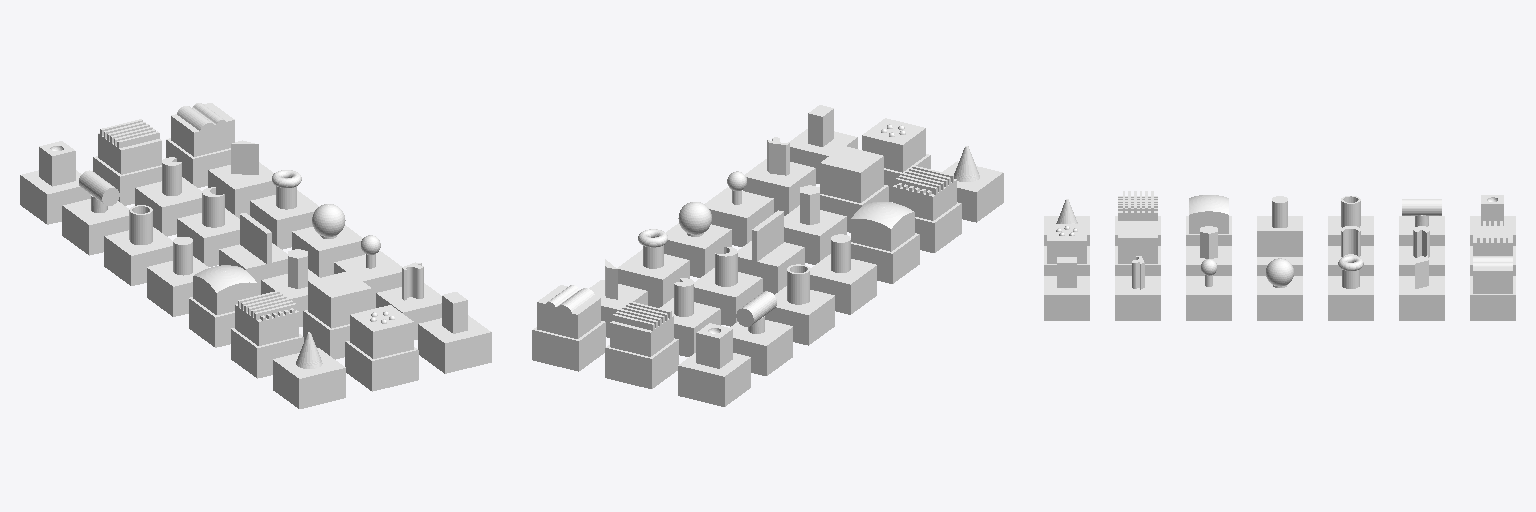
The robot description file, URDF, robot "all_stim":
<?xml version="1.0" ?>
<robot name="all_stim">

  <link name="world"/>

<!-- Row 1 -->

	<link name="cone">
		<visual>
			<origin rpy="0 0 0" xyz="-0.025 -0.075 0.0" />
			<geometry>
				<mesh filename="cone/cone.obj" scale=".001 .001 .001" />
			</geometry>
			<material name="texture">
				<color rgba="1.0 1.0 1.0 1.0" />
			</material>
		</visual>
		<collision>
			<geometry>
				<mesh filename="cone/cone_vhacd.obj" scale=".001 .001 .001" />
			</geometry>
		<origin rpy="0 0 0" xyz="-0.025 -0.075 0.0" /></collision>
		<inertial>
			<mass value="1.0" />
			<inertia ixx="1.0" ixy="0.0" ixz="0.0" iyy="1.0" iyz="0.0" izz="1.0" />
		</inertial>
	</link>

  <joint name="cone_joint" type="fixed">
    <origin rpy="0 0 0" xyz="0 0 0"/>
    <parent link="world"/>
    <child link="cone"/>
  </joint>


  <link name="cross_lines">
		<visual>
			<origin rpy="0 0 0" xyz="-0.025 -0.05 0.0" />
			<geometry>
				<mesh filename="cross_lines/cross_lines.obj" scale=".001 .001 .001" />
			</geometry>
			<material name="texture">
				<color rgba="1.0 1.0 1.0 1.0" />
			</material>
		</visual>
		<collision>
			<geometry>
				<mesh filename="cross_lines/cross_lines_vhacd.obj" scale=".001 .001 .001" />
			</geometry>
		<origin rpy="0 0 0" xyz="-0.025 -0.05 0.0" />
    </collision>
		<inertial>
			<mass value="1.0" />
			<inertia ixx="1.0" ixy="0.0" ixz="0.0" iyy="1.0" iyz="0.0" izz="1.0" />
		</inertial>
	</link>

  <joint name="cross_lines_joint" type="fixed">
    <origin rpy="0 0 0" xyz="0 0 0"/>
    <parent link="world"/>
    <child link="cross_lines"/>
  </joint>


  <link name="curved_surface">
		<visual>
			<origin rpy="0 0 0" xyz="-0.025 -0.025 0.0" />
			<geometry>
				<mesh filename="curved_surface/curved_surface.obj" scale=".001 .001 .001" />
			</geometry>
			<material name="texture">
				<color rgba="1.0 1.0 1.0 1.0" />
			</material>
		</visual>
		<collision>
			<geometry>
				<mesh filename="curved_surface/curved_surface_vhacd.obj" scale=".001 .001 .001" />
			</geometry>
		<origin rpy="0 0 0" xyz="-0.025 -0.025 0.0" />
    </collision>
		<inertial>
			<mass value="1.0" />
			<inertia ixx="1.0" ixy="0.0" ixz="0.0" iyy="1.0" iyz="0.0" izz="1.0" />
		</inertial>
	</link>

  <joint name="curved_surface_joint" type="fixed">
    <origin rpy="0 0 0" xyz="0 0 0"/>
    <parent link="world"/>
    <child link="curved_surface"/>
  </joint>

  <link name="cylinder">
		<visual>
			<origin rpy="0 0 0" xyz="-0.025 0.0 0.0" />
			<geometry>
				<mesh filename="cylinder/cylinder.obj" scale=".001 .001 .001" />
			</geometry>
			<material name="texture">
				<color rgba="1.0 1.0 1.0 1.0" />
			</material>
		</visual>
		<collision>
			<geometry>
				<mesh filename="cylinder/cylinder_vhacd.obj" scale=".001 .001 .001" />
			</geometry>
		<origin rpy="0 0 0" xyz="-0.025 0.0 0.0" />
    </collision>
		<inertial>
			<mass value="1.0" />
			<inertia ixx="1.0" ixy="0.0" ixz="0.0" iyy="1.0" iyz="0.0" izz="1.0" />
		</inertial>
	</link>

  <joint name="cylinder_joint" type="fixed">
    <origin rpy="0 0 0" xyz="0 0 0"/>
    <parent link="world"/>
    <child link="cylinder"/>
  </joint>

  <link name="cylinder_shell">
		<visual>
			<origin rpy="0 0 0" xyz="-0.025 0.025 0.0" />
			<geometry>
				<mesh filename="cylinder_shell/cylinder_shell.obj" scale=".001 .001 .001" />
			</geometry>
			<material name="texture">
				<color rgba="1.0 1.0 1.0 1.0" />
			</material>
		</visual>
		<collision>
			<geometry>
				<mesh filename="cylinder_shell/cylinder_shell_vhacd.obj" scale=".001 .001 .001" />
			</geometry>
		<origin rpy="0 0 0" xyz="-0.025 0.025 0.0" />
    </collision>
		<inertial>
			<mass value="1.0" />
			<inertia ixx="1.0" ixy="0.0" ixz="0.0" iyy="1.0" iyz="0.0" izz="1.0" />
		</inertial>
	</link>

  <joint name="cylinder_shell_joint" type="fixed">
    <origin rpy="0 0 0" xyz="0 0 0"/>
    <parent link="world"/>
    <child link="cylinder_shell"/>
  </joint>

  <link name="cylinder_side">
		<visual>
			<origin rpy="0 0 0" xyz="-0.025 0.05 0.0" />
			<geometry>
				<mesh filename="cylinder_side/cylinder_side.obj" scale=".001 .001 .001" />
			</geometry>
			<material name="texture">
				<color rgba="1.0 1.0 1.0 1.0" />
			</material>
		</visual>
		<collision>
			<geometry>
				<mesh filename="cylinder_side/cylinder_side_vhacd.obj" scale=".001 .001 .001" />
			</geometry>
		<origin rpy="0 0 0" xyz="-0.025 0.05 0.0" />
    </collision>
		<inertial>
			<mass value="1.0" />
			<inertia ixx="1.0" ixy="0.0" ixz="0.0" iyy="1.0" iyz="0.0" izz="1.0" />
		</inertial>
	</link>

  <joint name="cylinder_side_joint" type="fixed">
    <origin rpy="0 0 0" xyz="0 0 0"/>
    <parent link="world"/>
    <child link="cylinder_side"/>
  </joint>

  <link name="dot_in">
		<visual>
			<origin rpy="0 0 0" xyz="-0.025 0.075 0.0" />
			<geometry>
				<mesh filename="dot_in/dot_in.obj" scale=".001 .001 .001" />
			</geometry>
			<material name="texture">
				<color rgba="1.0 1.0 1.0 1.0" />
			</material>
		</visual>
		<collision>
			<geometry>
				<mesh filename="dot_in/dot_in_vhacd.obj" scale=".001 .001 .001" />
			</geometry>
		<origin rpy="0 0 0" xyz="-0.025 0.075 0.0" />
    </collision>
		<inertial>
			<mass value="1.0" />
			<inertia ixx="1.0" ixy="0.0" ixz="0.0" iyy="1.0" iyz="0.0" izz="1.0" />
		</inertial>
	</link>

  <joint name="dot_in_joint" type="fixed">
    <origin rpy="0 0 0" xyz="0 0 0"/>
    <parent link="world"/>
    <child link="dot_in"/>
  </joint>

<!-- ROW 2 -->

  <link name="dots">
		<visual>
			<origin rpy="0 0 0" xyz="0.0 -0.075 0.0" />
			<geometry>
				<mesh filename="dots/dots.obj" scale=".001 .001 .001" />
			</geometry>
			<material name="texture">
				<color rgba="1.0 1.0 1.0 1.0" />
			</material>
		</visual>
		<collision>
			<geometry>
				<mesh filename="dots/dots_vhacd.obj" scale=".001 .001 .001" />
			</geometry>
		<origin rpy="0 0 0" xyz="0.0 -0.075 0.0" />
    </collision>
		<inertial>
			<mass value="1.0" />
			<inertia ixx="1.0" ixy="0.0" ixz="0.0" iyy="1.0" iyz="0.0" izz="1.0" />
		</inertial>
	</link>

  <joint name="dots_joint" type="fixed">
    <origin rpy="0 0 0" xyz="0 0 0"/>
    <parent link="world"/>
    <child link="dots"/>
  </joint>

  <link name="flat_slab">
		<visual>
			<origin rpy="0 0 0" xyz="0.0 -0.05 0.0" />
			<geometry>
				<mesh filename="flat_slab/flat_slab.obj" scale=".001 .001 .001" />
			</geometry>
			<material name="texture">
				<color rgba="1.0 1.0 1.0 1.0" />
			</material>
		</visual>
		<collision>
			<geometry>
				<mesh filename="flat_slab/flat_slab_vhacd.obj" scale=".001 .001 .001" />
			</geometry>
		<origin rpy="0 0 0" xyz="0.0 -0.05 0.0" />
    </collision>
		<inertial>
			<mass value="1.0" />
			<inertia ixx="1.0" ixy="0.0" ixz="0.0" iyy="1.0" iyz="0.0" izz="1.0" />
		</inertial>
	</link>

  <joint name="flat_slab_joint" type="fixed">
    <origin rpy="0 0 0" xyz="0 0 0"/>
    <parent link="world"/>
    <child link="flat_slab"/>
  </joint>

  <link name="hexagon">
		<visual>
			<origin rpy="0 0 0" xyz="0.0 -0.025 0.0" />
			<geometry>
				<mesh filename="hexagon/hexagon.obj" scale=".001 .001 .001" />
			</geometry>
			<material name="texture">
				<color rgba="1.0 1.0 1.0 1.0" />
			</material>
		</visual>
		<collision>
			<geometry>
				<mesh filename="hexagon/hexagon_vhacd.obj" scale=".001 .001 .001" />
			</geometry>
		<origin rpy="0 0 0" xyz="0.0 -0.025 0.0" />
    </collision>
		<inertial>
			<mass value="1.0" />
			<inertia ixx="1.0" ixy="0.0" ixz="0.0" iyy="1.0" iyz="0.0" izz="1.0" />
		</inertial>
	</link>

  <joint name="hexagon_joint" type="fixed">
    <origin rpy="0 0 0" xyz="0 0 0"/>
    <parent link="world"/>
    <child link="hexagon"/>
  </joint>

  <link name="line">
		<visual>
			<origin rpy="0 0 0" xyz="0.0 0.0 0.0" />
			<geometry>
				<mesh filename="line/line.obj" scale=".001 .001 .001" />
			</geometry>
			<material name="texture">
				<color rgba="1.0 1.0 1.0 1.0" />
			</material>
		</visual>
		<collision>
			<geometry>
				<mesh filename="line/line_vhacd.obj" scale=".001 .001 .001" />
			</geometry>
		<origin rpy="0 0 0" xyz="0.0 0.0 0.0" />
    </collision>
		<inertial>
			<mass value="1.0" />
			<inertia ixx="1.0" ixy="0.0" ixz="0.0" iyy="1.0" iyz="0.0" izz="1.0" />
		</inertial>
	</link>

  <joint name="line_joint" type="fixed">
    <origin rpy="0 0 0" xyz="0 0 0"/>
    <parent link="world"/>
    <child link="line"/>
  </joint>

  <link name="moon">
		<visual>
			<origin rpy="0 0 0" xyz="0.0 0.025 0.0" />
			<geometry>
				<mesh filename="moon/moon.obj" scale=".001 .001 .001" />
			</geometry>
			<material name="texture">
				<color rgba="1.0 1.0 1.0 1.0" />
			</material>
		</visual>
		<collision>
			<geometry>
				<mesh filename="moon/moon_vhacd.obj" scale=".001 .001 .001" />
			</geometry>
		<origin rpy="0 0 0" xyz="0.0 0.025 0.0" />
    </collision>
		<inertial>
			<mass value="1.0" />
			<inertia ixx="1.0" ixy="0.0" ixz="0.0" iyy="1.0" iyz="0.0" izz="1.0" />
		</inertial>
	</link>

  <joint name="moon_joint" type="fixed">
    <origin rpy="0 0 0" xyz="0 0 0"/>
    <parent link="world"/>
    <child link="moon"/>
  </joint>

  <link name="pacman">
		<visual>
			<origin rpy="0 0 0" xyz="0.0 0.05 0.0" />
			<geometry>
				<mesh filename="pacman/pacman.obj" scale=".001 .001 .001" />
			</geometry>
			<material name="texture">
				<color rgba="1.0 1.0 1.0 1.0" />
			</material>
		</visual>
		<collision>
			<geometry>
				<mesh filename="pacman/pacman_vhacd.obj" scale=".001 .001 .001" />
			</geometry>
		<origin rpy="0 0 0" xyz="0.0 0.05 0.0" />
    </collision>
		<inertial>
			<mass value="1.0" />
			<inertia ixx="1.0" ixy="0.0" ixz="0.0" iyy="1.0" iyz="0.0" izz="1.0" />
		</inertial>
	</link>

  <joint name="pacman_joint" type="fixed">
    <origin rpy="0 0 0" xyz="0 0 0"/>
    <parent link="world"/>
    <child link="pacman"/>
  </joint>

  <link name="parallel_lines">
		<visual>
			<origin rpy="0 0 0" xyz="0.0 0.075 0.0" />
			<geometry>
				<mesh filename="parallel_lines/parallel_lines.obj" scale=".001 .001 .001" />
			</geometry>
			<material name="texture">
				<color rgba="1.0 1.0 1.0 1.0" />
			</material>
		</visual>
		<collision>
			<geometry>
				<mesh filename="parallel_lines/parallel_lines_vhacd.obj" scale=".001 .001 .001" />
			</geometry>
		<origin rpy="0 0 0" xyz="0.0 0.075 0.0" />
    </collision>
		<inertial>
			<mass value="1.0" />
			<inertia ixx="1.0" ixy="0.0" ixz="0.0" iyy="1.0" iyz="0.0" izz="1.0" />
		</inertial>
	</link>

  <joint name="parallel_lines_joint" type="fixed">
    <origin rpy="0 0 0" xyz="0 0 0"/>
    <parent link="world"/>
    <child link="parallel_lines"/>
  </joint>

<!-- ROW 3 -->

    <link name="prism">
  		<visual>
  			<origin rpy="0 0 0" xyz="0.025 -0.075 0.0" />
  			<geometry>
  				<mesh filename="prism/prism.obj" scale=".001 .001 .001" />
  			</geometry>
  			<material name="texture">
  				<color rgba="1.0 1.0 1.0 1.0" />
  			</material>
  		</visual>
  		<collision>
  			<geometry>
  				<mesh filename="prism/prism_vhacd.obj" scale=".001 .001 .001" />
  			</geometry>
  		<origin rpy="0 0 0" xyz="0.025 -0.075 0.0" />
      </collision>
  		<inertial>
  			<mass value="1.0" />
  			<inertia ixx="1.0" ixy="0.0" ixz="0.0" iyy="1.0" iyz="0.0" izz="1.0" />
  		</inertial>
  	</link>

    <joint name="prism_joint" type="fixed">
      <origin rpy="0 0 0" xyz="0 0 0"/>
      <parent link="world"/>
      <child link="prism"/>
    </joint>

    <link name="random">
  		<visual>
  			<origin rpy="0 0 0" xyz="0.025 -0.05 0.0" />
  			<geometry>
  				<mesh filename="random/random.obj" scale=".001 .001 .001" />
  			</geometry>
  			<material name="texture">
  				<color rgba="1.0 1.0 1.0 1.0" />
  			</material>
  		</visual>
  		<collision>
  			<geometry>
  				<mesh filename="random/random_vhacd.obj" scale=".001 .001 .001" />
  			</geometry>
  		<origin rpy="0 0 0" xyz="0.025 -0.05 0.0" />
      </collision>
  		<inertial>
  			<mass value="1.0" />
  			<inertia ixx="1.0" ixy="0.0" ixz="0.0" iyy="1.0" iyz="0.0" izz="1.0" />
  		</inertial>
  	</link>

    <joint name="random_joint" type="fixed">
      <origin rpy="0 0 0" xyz="0 0 0"/>
      <parent link="world"/>
      <child link="random"/>
    </joint>

    <link name="sphere">
  		<visual>
  			<origin rpy="0 0 0" xyz="0.025 -0.025 0.0" />
  			<geometry>
  				<mesh filename="sphere/sphere.obj" scale=".001 .001 .001" />
  			</geometry>
  			<material name="texture">
  				<color rgba="1.0 1.0 1.0 1.0" />
  			</material>
  		</visual>
  		<collision>
  			<geometry>
  				<mesh filename="sphere/sphere_vhacd.obj" scale=".001 .001 .001" />
  			</geometry>
  		<origin rpy="0 0 0" xyz="0.025 -0.025 0.0" />
      </collision>
  		<inertial>
  			<mass value="1.0" />
  			<inertia ixx="1.0" ixy="0.0" ixz="0.0" iyy="1.0" iyz="0.0" izz="1.0" />
  		</inertial>
  	</link>

    <joint name="sphere_joint" type="fixed">
      <origin rpy="0 0 0" xyz="0 0 0"/>
      <parent link="world"/>
      <child link="sphere"/>
    </joint>

    <link name="sphere2">
  		<visual>
  			<origin rpy="0 0 0" xyz="0.025 0.0 0.0" />
  			<geometry>
  				<mesh filename="sphere2/sphere2.obj" scale=".001 .001 .001" />
  			</geometry>
  			<material name="texture">
  				<color rgba="1.0 1.0 1.0 1.0" />
  			</material>
  		</visual>
  		<collision>
  			<geometry>
  				<mesh filename="sphere2/sphere2_vhacd.obj" scale=".001 .001 .001" />
  			</geometry>
  		<origin rpy="0 0 0" xyz="0.025 0.0 0.0" />
      </collision>
  		<inertial>
  			<mass value="1.0" />
  			<inertia ixx="1.0" ixy="0.0" ixz="0.0" iyy="1.0" iyz="0.0" izz="1.0" />
  		</inertial>
  	</link>

    <joint name="sphere2_joint" type="fixed">
      <origin rpy="0 0 0" xyz="0 0 0"/>
      <parent link="world"/>
      <child link="sphere2"/>
    </joint>

    <link name="torus">
  		<visual>
  			<origin rpy="0 0 0" xyz="0.025 0.025 0.0" />
  			<geometry>
  				<mesh filename="torus/torus.obj" scale=".001 .001 .001" />
  			</geometry>
  			<material name="texture">
  				<color rgba="1.0 1.0 1.0 1.0" />
  			</material>
  		</visual>
  		<collision>
  			<geometry>
  				<mesh filename="torus/torus_vhacd.obj" scale=".001 .001 .001" />
  			</geometry>
  		<origin rpy="0 0 0" xyz="0.025 0.025 0.0" />
      </collision>
  		<inertial>
  			<mass value="1.0" />
  			<inertia ixx="1.0" ixy="0.0" ixz="0.0" iyy="1.0" iyz="0.0" izz="1.0" />
  		</inertial>
  	</link>

    <joint name="torus_joint" type="fixed">
      <origin rpy="0 0 0" xyz="0 0 0"/>
      <parent link="world"/>
      <child link="torus"/>
    </joint>

    <link name="triangle">
  		<visual>
  			<origin rpy="0 0 0" xyz="0.025 0.05 0.0" />
  			<geometry>
  				<mesh filename="triangle/triangle.obj" scale=".001 .001 .001" />
  			</geometry>
  			<material name="texture">
  				<color rgba="1.0 1.0 1.0 1.0" />
  			</material>
  		</visual>
  		<collision>
  			<geometry>
  				<mesh filename="triangle/triangle_vhacd.obj" scale=".001 .001 .001" />
  			</geometry>
  		<origin rpy="0 0 0" xyz="0.025 0.05 0.0" />
      </collision>
  		<inertial>
  			<mass value="1.0" />
  			<inertia ixx="1.0" ixy="0.0" ixz="0.0" iyy="1.0" iyz="0.0" izz="1.0" />
  		</inertial>
  	</link>

    <joint name="triangle_joint" type="fixed">
      <origin rpy="0 0 0" xyz="0 0 0"/>
      <parent link="world"/>
      <child link="triangle"/>
    </joint>

    <link name="wave1">
  		<visual>
  			<origin rpy="0 0 0" xyz="0.025 0.075 0.0" />
  			<geometry>
  				<mesh filename="wave1/wave1.obj" scale=".001 .001 .001" />
  			</geometry>
  			<material name="texture">
  				<color rgba="1.0 1.0 1.0 1.0" />
  			</material>
  		</visual>
  		<collision>
  			<geometry>
  				<mesh filename="wave1/wave1_vhacd.obj" scale=".001 .001 .001" />
  			</geometry>
  		<origin rpy="0 0 0" xyz="0.025 0.075 0.0" />
      </collision>
  		<inertial>
  			<mass value="1.0" />
  			<inertia ixx="1.0" ixy="0.0" ixz="0.0" iyy="1.0" iyz="0.0" izz="1.0" />
  		</inertial>
  	</link>

    <joint name="wave1_joint" type="fixed">
      <origin rpy="0 0 0" xyz="0 0 0"/>
      <parent link="world"/>
      <child link="wave1"/>
    </joint>


</robot>

--- What the picture shows (computed from the rendered views, not written in the file) ---
The picture shows the robot from 3 angles, left to right: view 1: azimuth 30°, elevation 25°; view 2: azimuth 150°, elevation 25°; view 3: azimuth 270°, elevation 25°; orthographic projection.
Model all_stim with 22 links and 21 joints (21 fixed), rooted at world, posed all joints at 0.
Visible links, largest first — view 1: dots, cross_lines, parallel_lines, wave1, prism, flat_slab, curved_surface, cone, dot_in, cylinder_side, cylinder_shell, sphere2 (+9 smaller); view 2: parallel_lines, wave1, curved_surface, dot_in, cross_lines, flat_slab, cylinder_side, cylinder, cylinder_shell, torus, line, sphere2 (+9 smaller); view 3: wave1, sphere2, torus, prism, triangle, random, sphere, flat_slab, dots, curved_surface, line, cylinder_side (+9 smaller).
Link boxes in pixels (x1,y1,x2,y2): dots: [345, 305, 418, 391]; cross_lines: [231, 291, 303, 378]; parallel_lines: [93, 119, 161, 205]; wave1: [166, 103, 234, 187]; prism: [418, 292, 491, 373]; flat_slab: [303, 271, 371, 359]; curved_surface: [189, 265, 256, 347]; cone: [273, 332, 345, 408]; dot_in: [20, 141, 90, 224]; cylinder_side: [62, 170, 129, 255]; cylinder_shell: [104, 205, 172, 285]; sphere2: [292, 204, 364, 277]; parallel_lines: [605, 301, 678, 388]; wave1: [532, 285, 605, 371]; curved_surface: [851, 202, 919, 283]; dot_in: [678, 323, 750, 406]; cross_lines: [893, 165, 961, 252]; flat_slab: [820, 146, 888, 232]; cylinder_side: [730, 291, 792, 375]; cylinder: [810, 234, 876, 314]; cylinder_shell: [765, 264, 834, 345]; torus: [617, 229, 689, 307]; line: [738, 210, 804, 294]; sphere2: [664, 202, 731, 277]; wave1: [1470, 256, 1515, 320]; sphere2: [1257, 258, 1302, 320]; torus: [1328, 256, 1373, 320]; prism: [1044, 257, 1089, 320]; triangle: [1399, 255, 1444, 320]; random: [1115, 256, 1160, 320]; sphere: [1186, 259, 1231, 320]; flat_slab: [1115, 221, 1160, 275]; dots: [1044, 224, 1089, 275]; curved_surface: [1186, 195, 1231, 245]; line: [1257, 228, 1302, 275]; cylinder_side: [1399, 199, 1444, 245].
Bounding box of the posed robot: 0.066 × 0.166 × 0.02 m (x, y, z).
Meshes: 21 distinct files referenced, 21 mesh visuals loaded (21 OBJ).